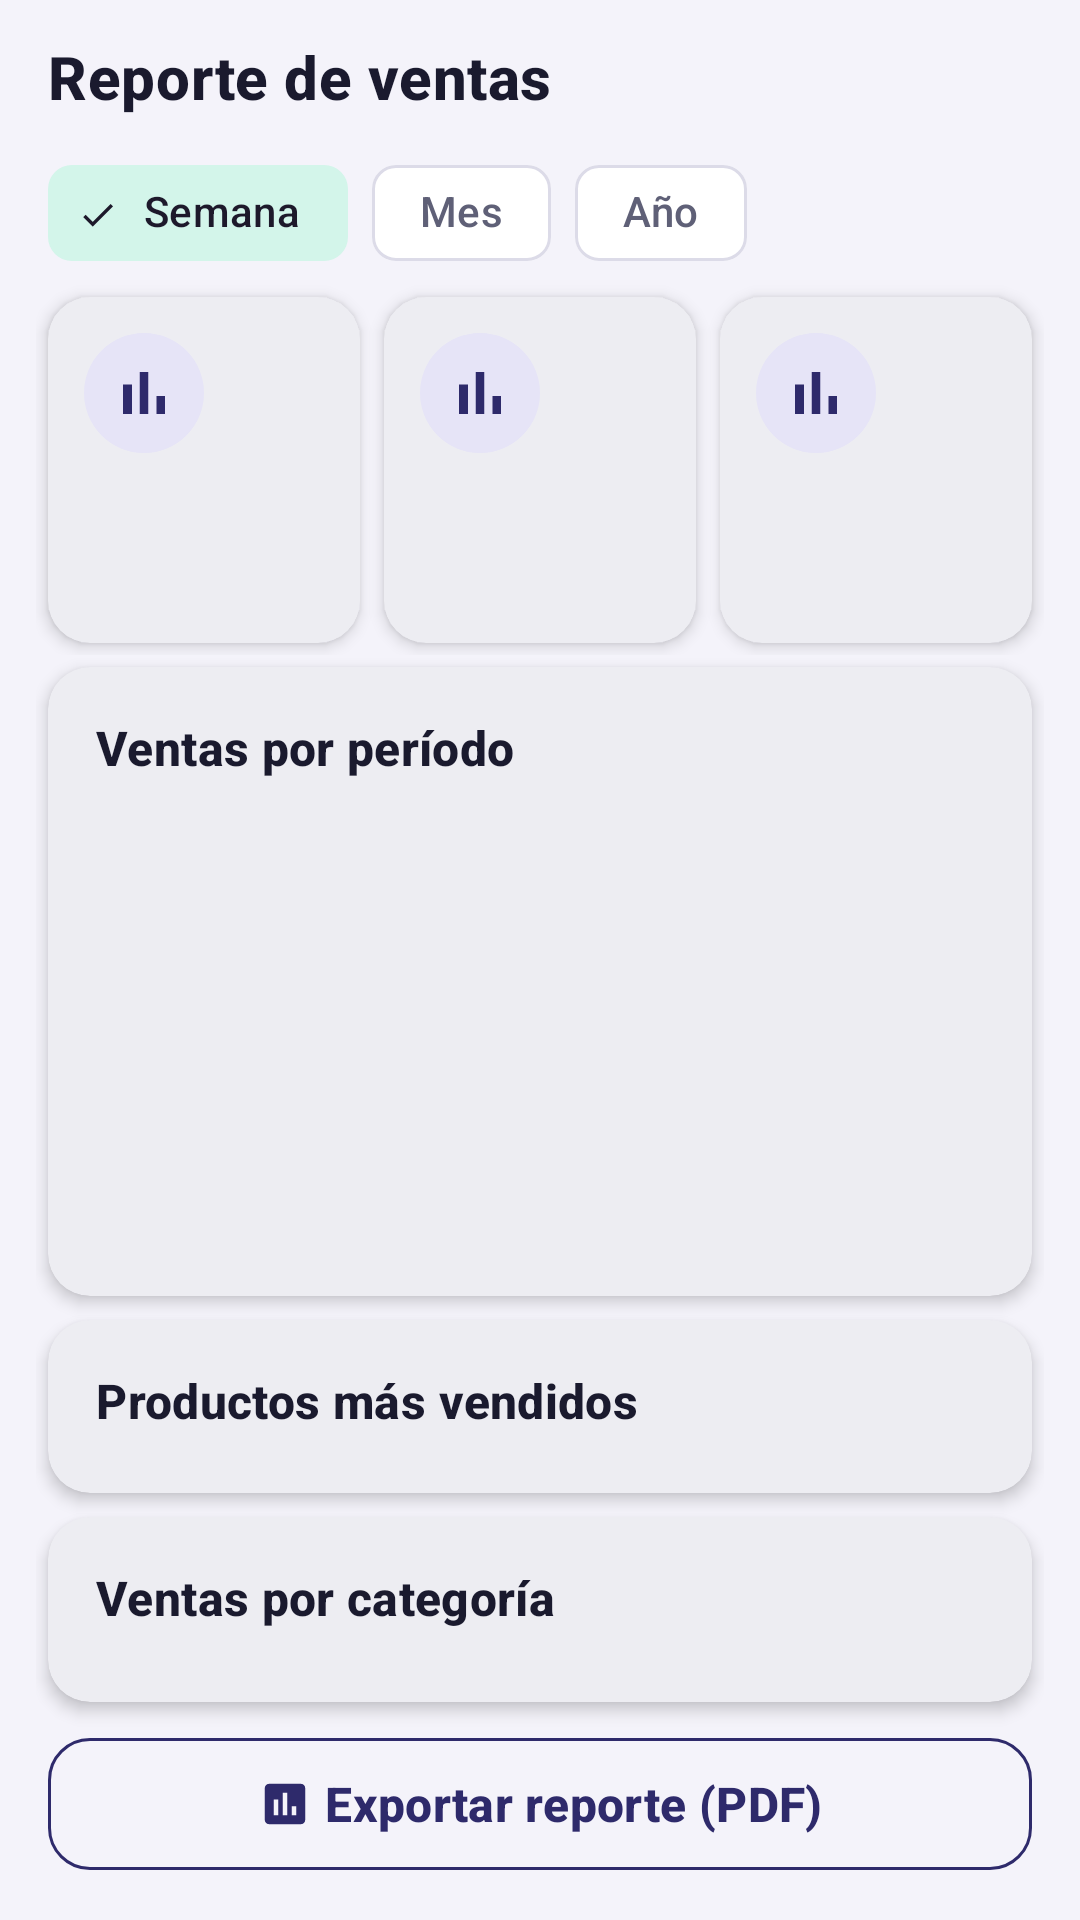

Icon bounding boxes for this 1080px x 1920px phone screenshot, format (x1, y1, x2, y2):
chart: (84, 333, 204, 453), (420, 333, 540, 453), (756, 333, 876, 453)
